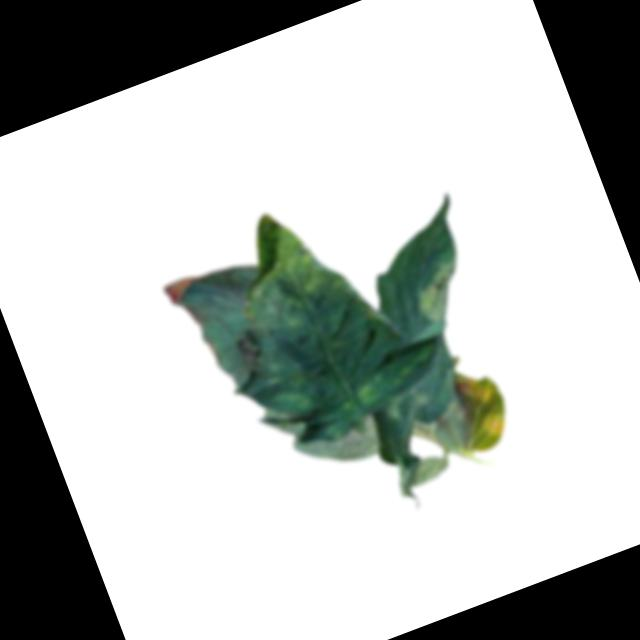Leaf_Mold: (447, 360, 519, 453), (403, 258, 475, 329), (316, 408, 395, 471), (211, 320, 278, 394)
